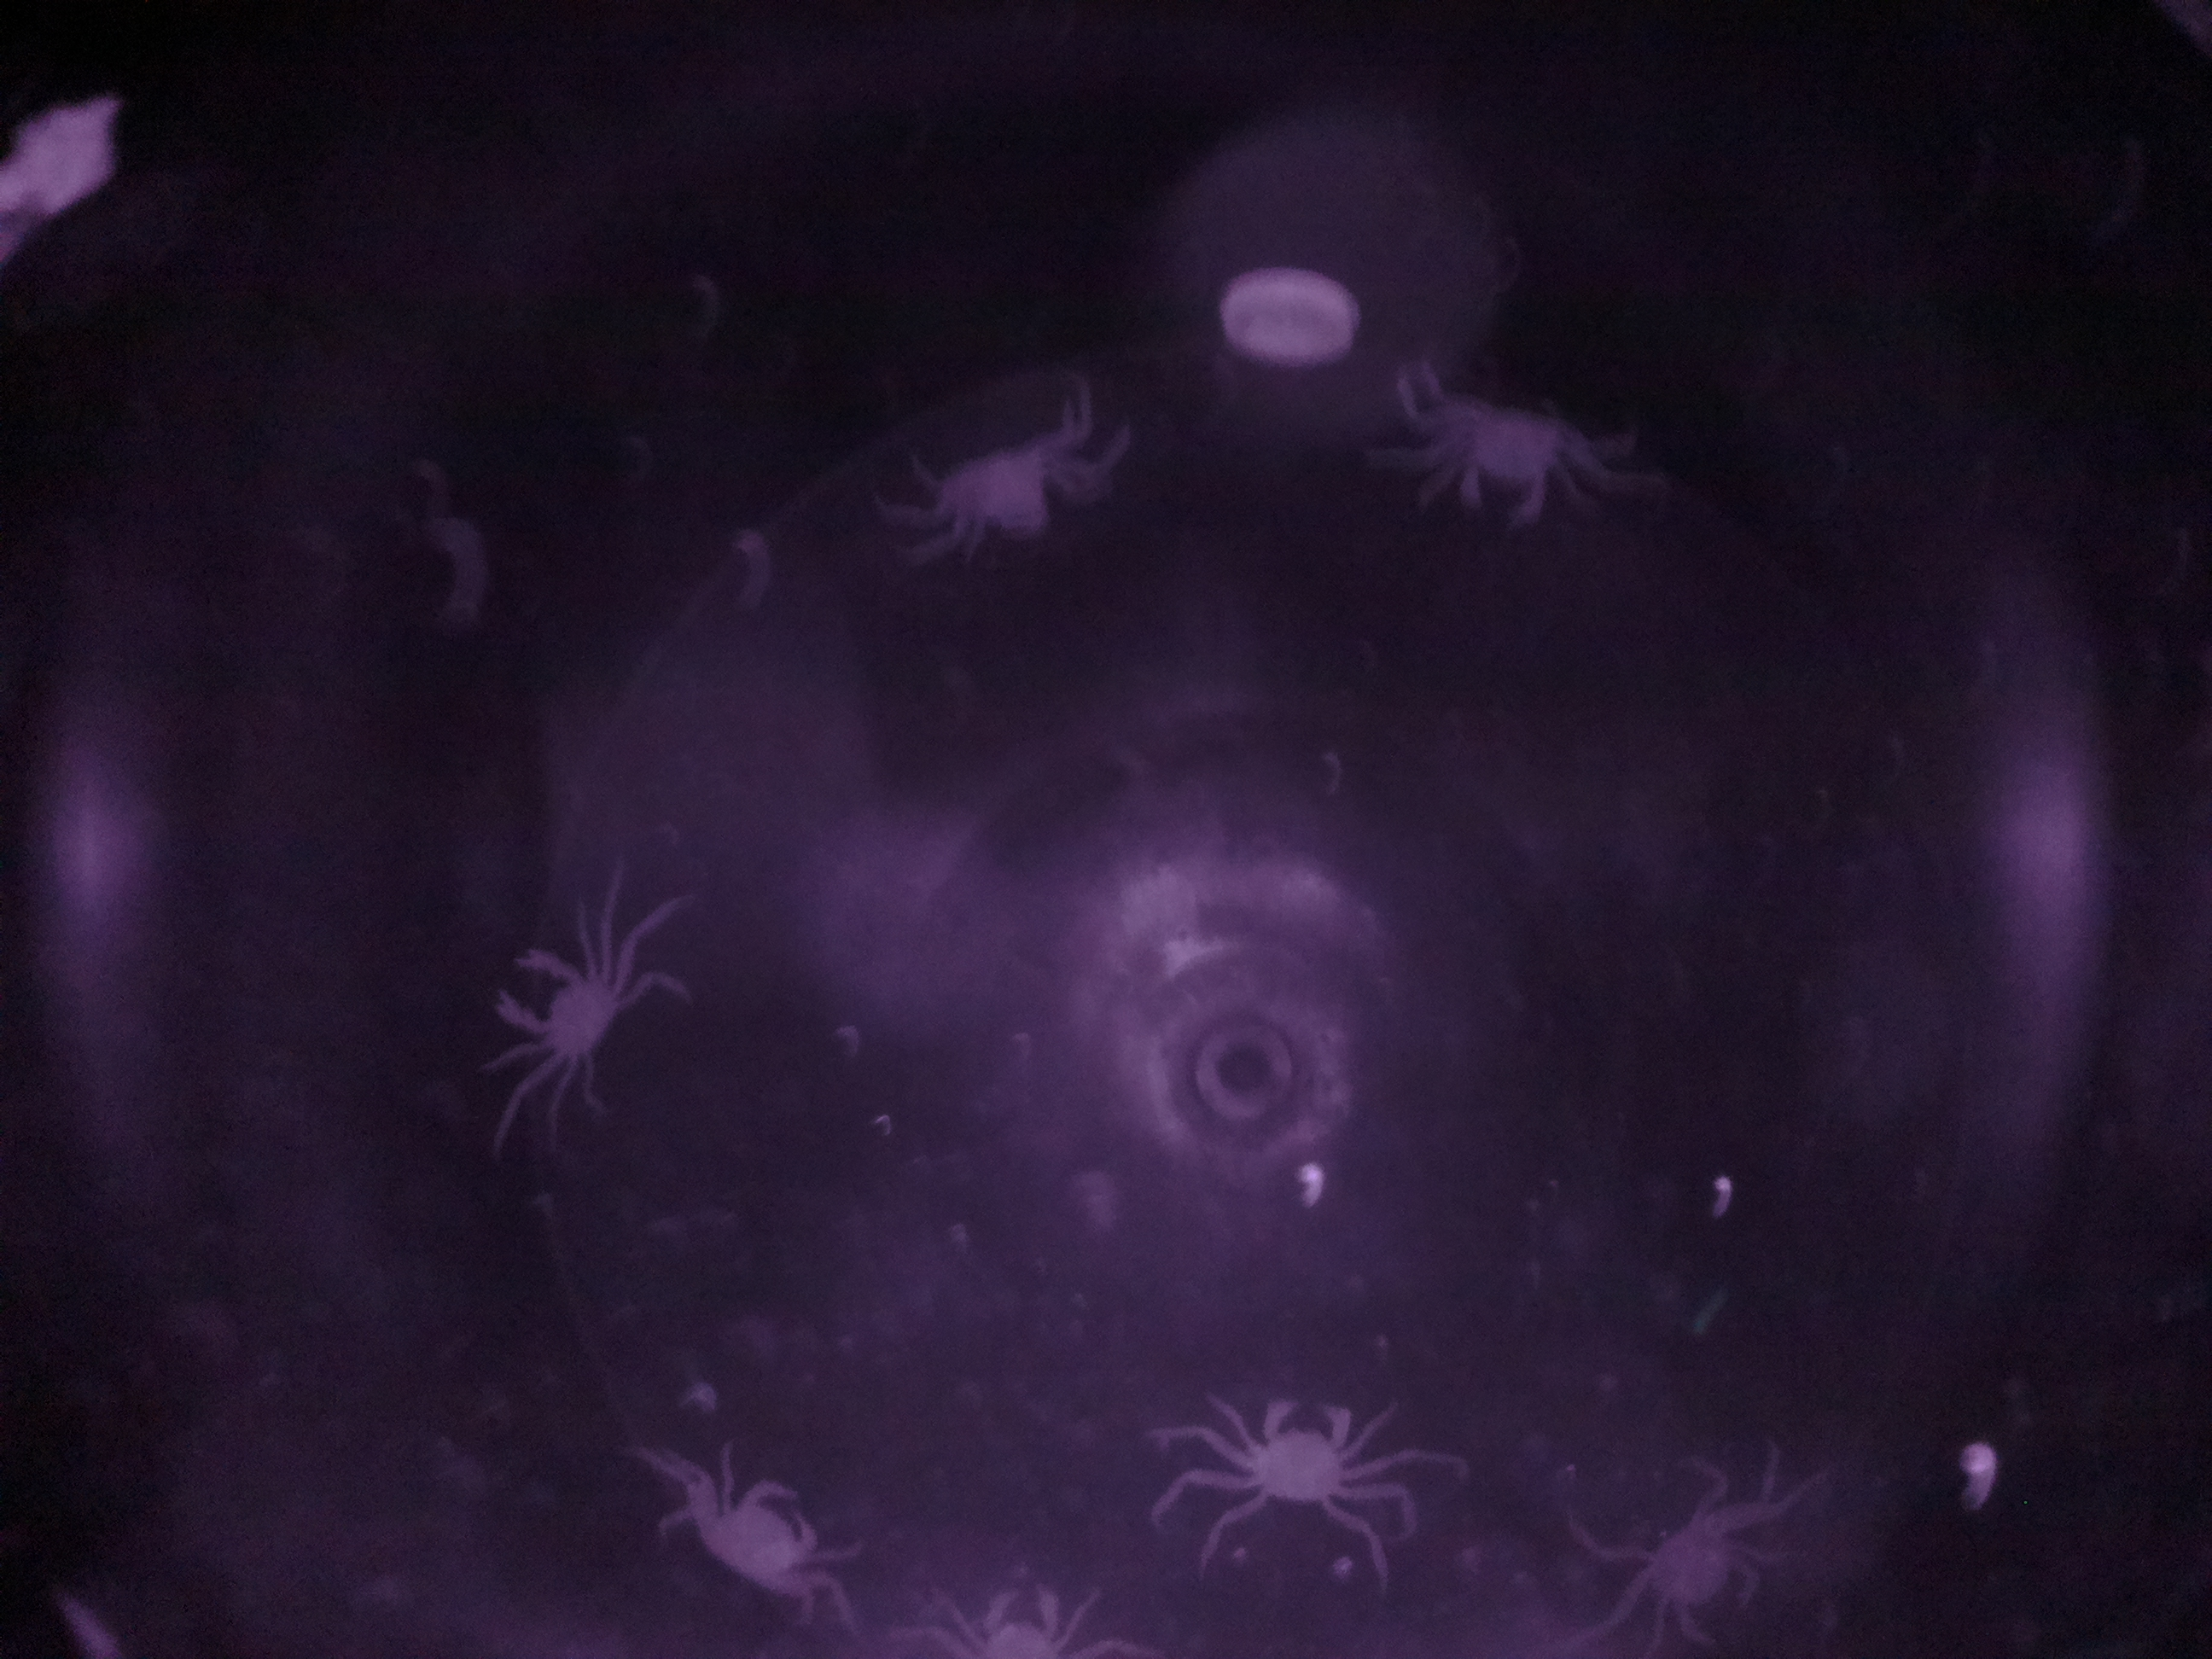Crab: (1219, 1380, 1400, 1537), (681, 1460, 853, 1624), (489, 920, 644, 1087)
